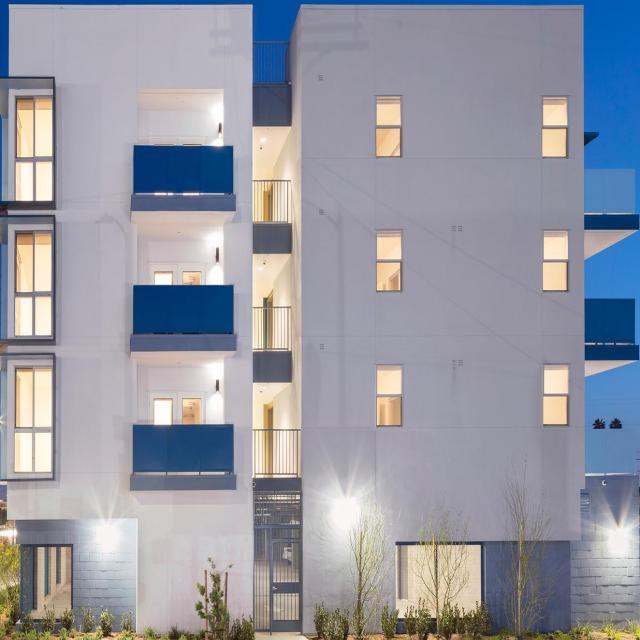Railing: (132, 427, 235, 478), (134, 143, 233, 194), (132, 286, 233, 330), (255, 430, 300, 480), (253, 307, 293, 353), (254, 181, 291, 223), (254, 45, 291, 82)
door: (256, 524, 300, 631)
wall: (0, 6, 639, 634)
windows: (398, 544, 484, 620), (17, 233, 54, 338), (16, 100, 54, 202), (17, 368, 53, 475), (25, 549, 73, 626), (586, 170, 637, 218), (377, 98, 403, 158), (543, 98, 569, 158), (545, 365, 570, 427), (545, 232, 570, 293), (378, 366, 403, 426), (379, 232, 404, 292), (184, 400, 202, 425), (156, 400, 173, 426), (154, 274, 175, 287), (184, 273, 202, 286)
